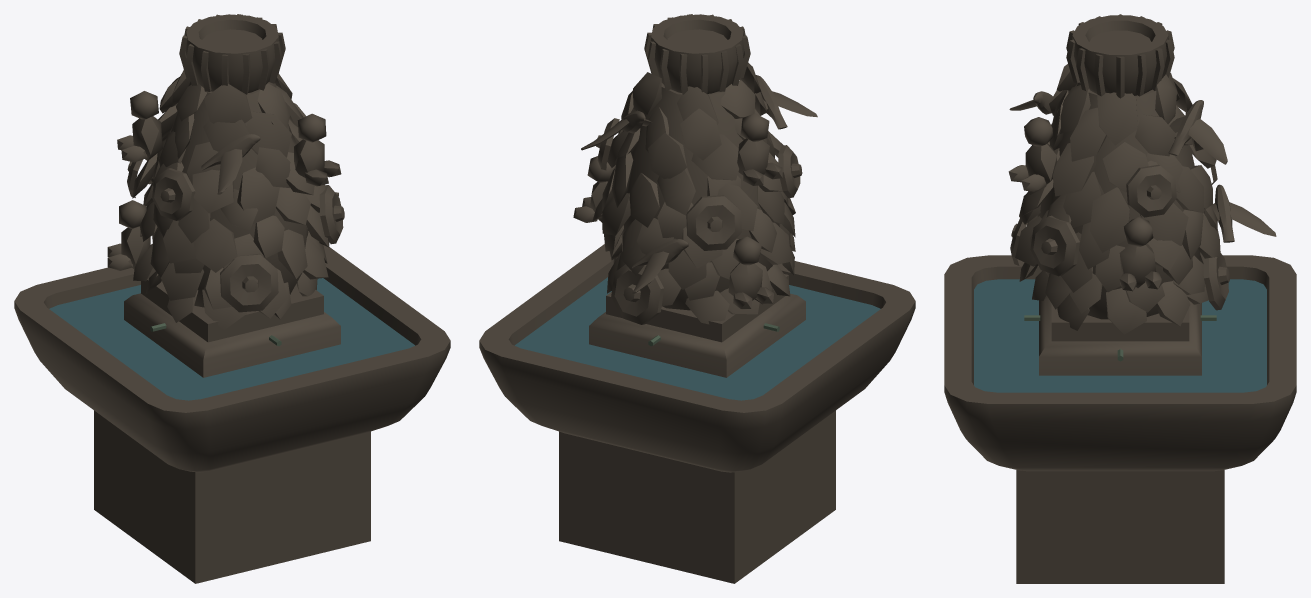
The model's file is mon_steinblumenbrunnen.glb.
The picture shows the model from 3 angles, left to right: view 1: azimuth 30°, elevation 25°; view 2: azimuth 150°, elevation 25°; view 3: azimuth 270°, elevation 25°; orthographic projection. The views are drawn at different scales.
Parts seen in each view (by area): view 1: mon_steinblumenbrunnen; view 2: mon_steinblumenbrunnen; view 3: mon_steinblumenbrunnen.
Boxes of the visible parts, <box> form: mon_steinblumenbrunnen: <box>14,14,450,583</box>; mon_steinblumenbrunnen: <box>479,14,915,583</box>; mon_steinblumenbrunnen: <box>944,14,1296,583</box>.
Size of the model in its own units: 2.2 by 3.48 by 2.2.
